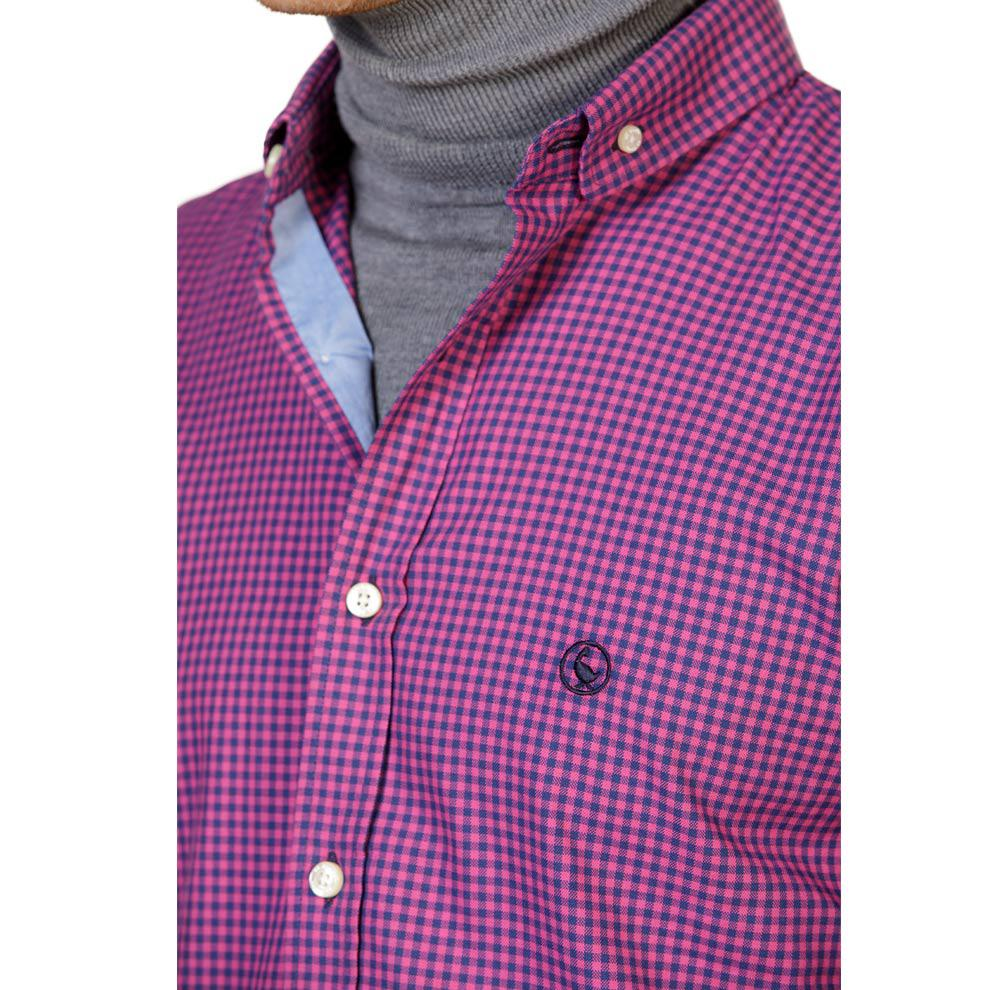teeshirt: (155, 48, 857, 990)
